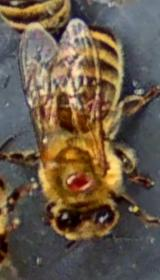varroa_mite: (59, 168, 101, 196)
